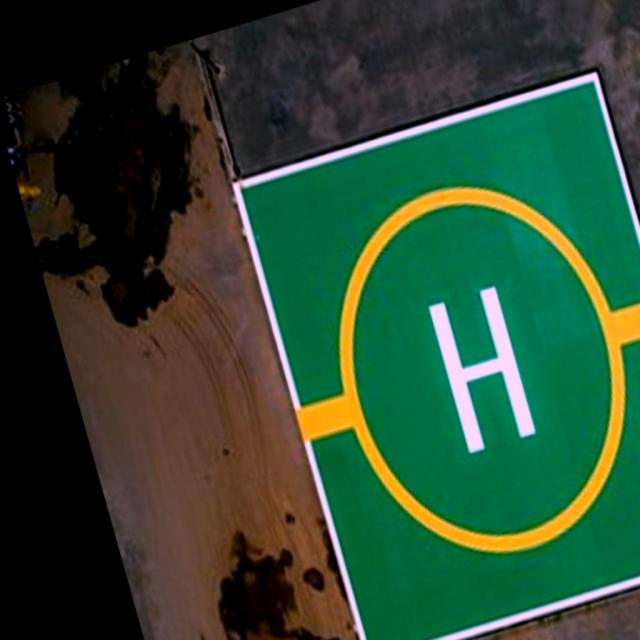helipad: (332, 183, 631, 559)
